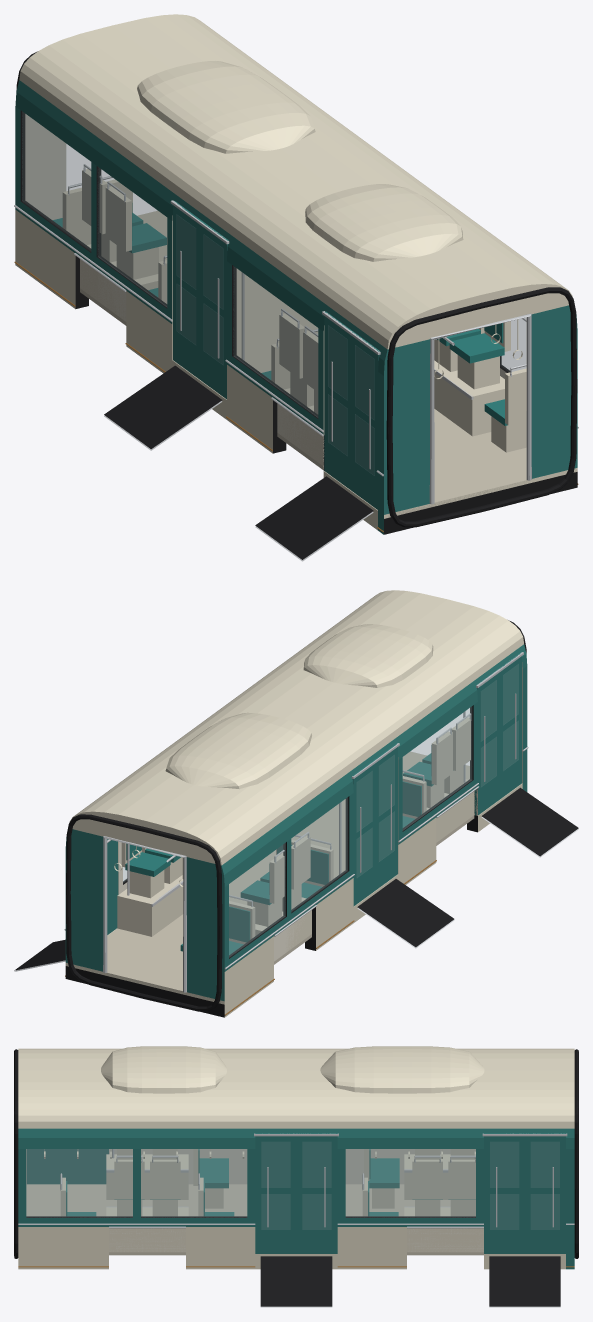
The model's file is carrow_tram_mid.glb.
3 views of the same model, one above another, from view 1: azimuth 30°, elevation 25°; view 2: azimuth 150°, elevation 25°; view 3: azimuth 270°, elevation 25° (orthographic). The views are drawn at different scales.
Parts seen in each view (by area): view 1: endwall_B, fairings, side_L_2, roof_5, roof_0, floor, roof_2, side_L_1, glass_L_1_0, roof_3, glass_L_2_0, glass_L_2_1 (+36 smaller); view 2: endwall_F, fairings, side_L_2, roof_5, roof_0, floor, roof_2, side_L_1, glass_L_1_0, roof_3, glass_L_2_1, glass_L_2_0 (+36 smaller); view 3: side_R_0, fairings, glass_R_1_0, side_R_1, roof_5, glass_R_0_0, roof_0, glass_R_0_1, roof_2, floor, door_R0_a, door_R0_b (+40 smaller).
Part boxes in pixels (x1=…): endwall_B: x1=384, y1=284, x2=577, y2=534; fairings: x1=137, y1=61, x2=463, y2=261; side_L_2: x1=14, y1=80, x2=175, y2=373; roof_5: x1=19, y1=14, x2=260, y2=124; roof_0: x1=326, y1=239, x2=566, y2=349; floor: x1=80, y1=211, x2=546, y2=517; roof_2: x1=203, y1=149, x2=444, y2=259; side_L_1: x1=225, y1=235, x2=327, y2=453; glass_L_1_0: x1=233, y1=266, x2=317, y2=417; roof_3: x1=142, y1=104, x2=381, y2=214; glass_L_2_0: x1=98, y1=167, x2=166, y2=306; glass_L_2_1: x1=22, y1=112, x2=90, y2=250; endwall_F: x1=65, y1=811, x2=224, y2=1017; fairings: x1=165, y1=624, x2=433, y2=789; side_L_2: x1=221, y1=771, x2=354, y2=1017; roof_5: x1=75, y1=774, x2=271, y2=864; roof_0: x1=327, y1=590, x2=523, y2=680; floor: x1=74, y1=751, x2=474, y2=1003; roof_2: x1=226, y1=664, x2=423, y2=754; side_L_1: x1=395, y1=680, x2=478, y2=884; glass_L_1_0: x1=403, y1=707, x2=472, y2=830; roof_3: x1=176, y1=701, x2=372, y2=791; glass_L_2_1: x1=229, y1=843, x2=285, y2=957; glass_L_2_0: x1=291, y1=797, x2=347, y2=911; side_R_0: x1=18, y1=1128, x2=255, y2=1269; fairings: x1=101, y1=1046, x2=484, y2=1093; glass_R_1_0: x1=346, y1=1149, x2=475, y2=1217; side_R_1: x1=337, y1=1128, x2=483, y2=1269; roof_5: x1=482, y1=1048, x2=574, y2=1128; glass_R_0_0: x1=26, y1=1149, x2=132, y2=1217; roof_0: x1=18, y1=1048, x2=110, y2=1128; glass_R_0_1: x1=141, y1=1149, x2=246, y2=1217; roof_2: x1=203, y1=1048, x2=296, y2=1128; floor: x1=26, y1=1184, x2=483, y2=1255; door_R0_a: x1=255, y1=1133, x2=296, y2=1253; door_R0_b: x1=296, y1=1133, x2=337, y2=1253.
Size of the model in its own units: 4.45 by 3.1 by 8.53.
